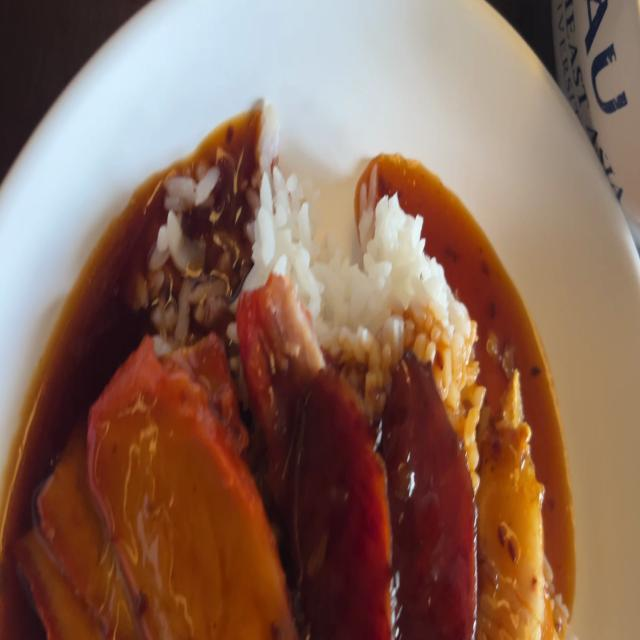stir_fried_basil: (288, 362, 479, 640), (282, 360, 397, 640), (388, 364, 475, 627)
